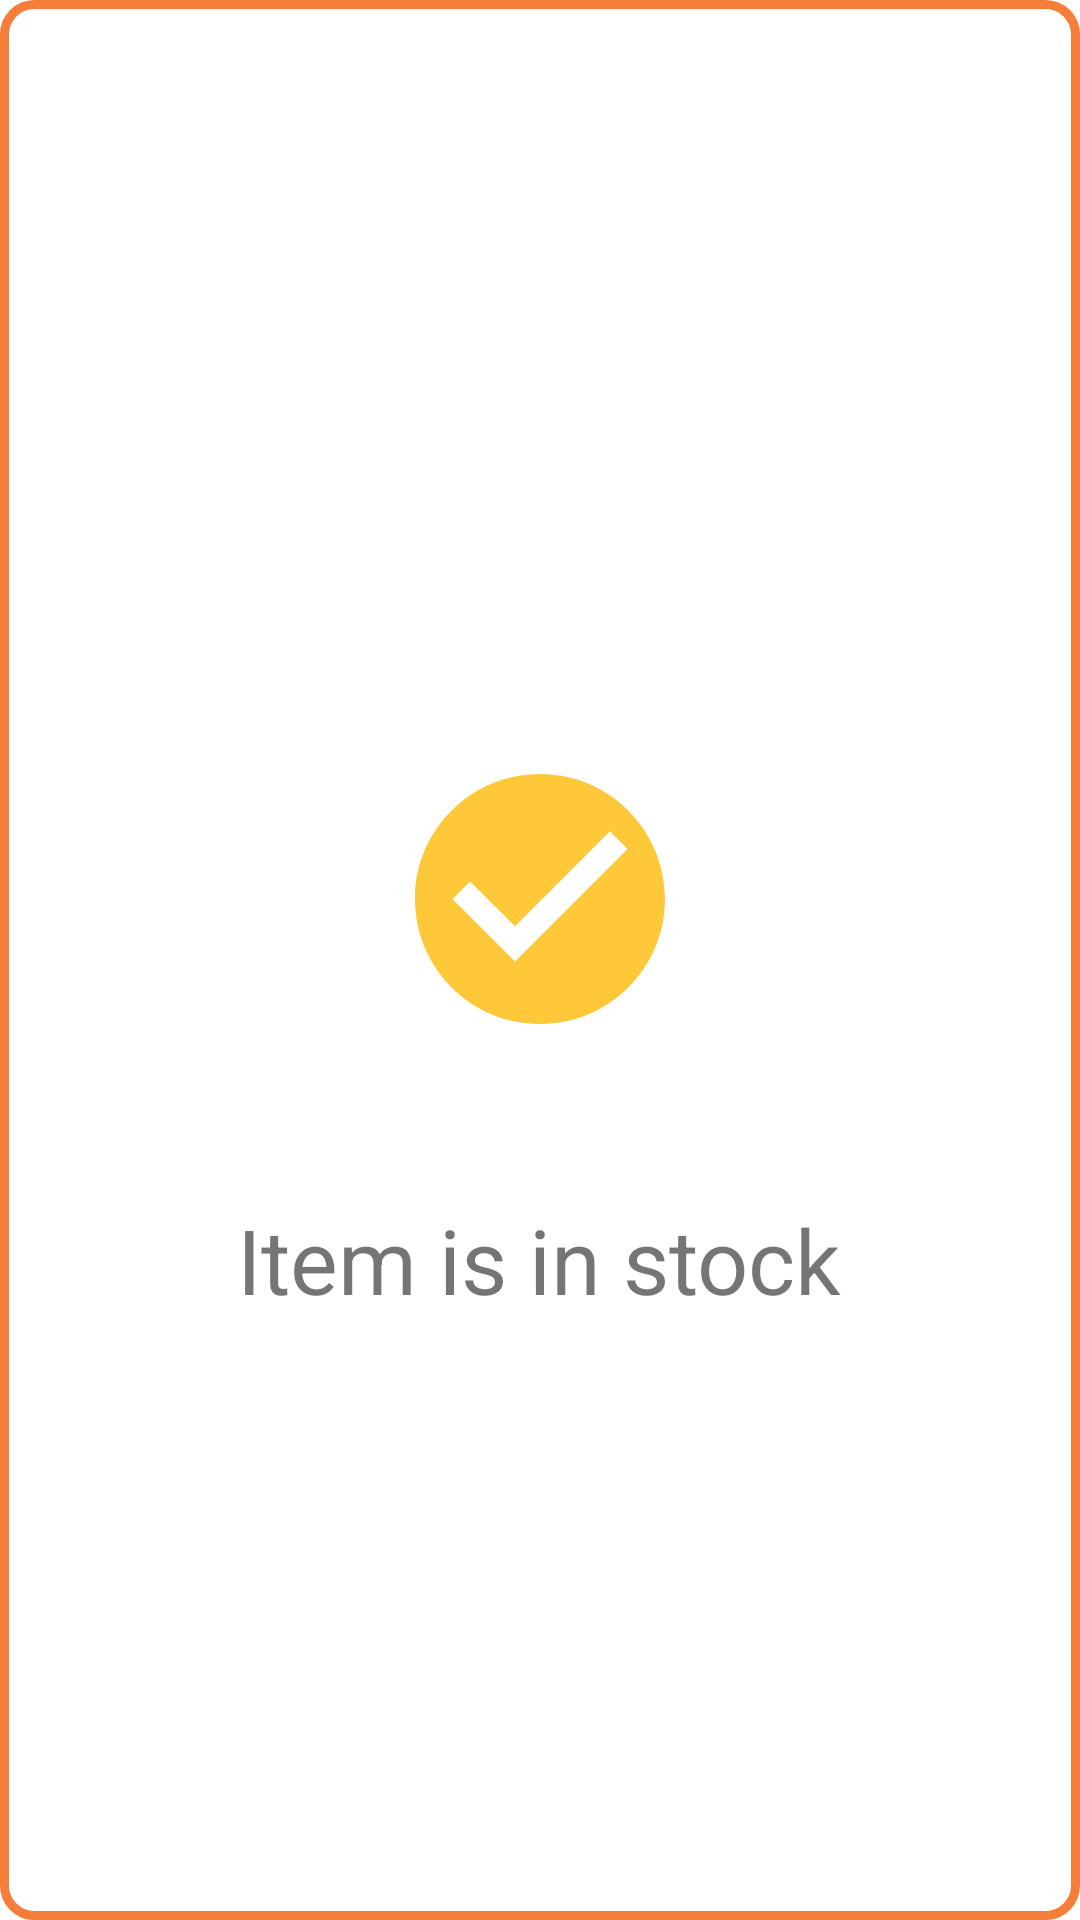

Point at icon controls on the screen. Image size 1080px×1920px, points as (x,y).
check circle: (540,899)
